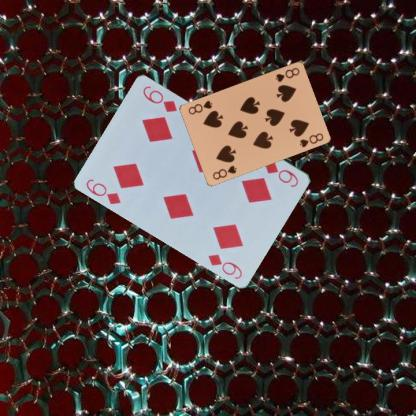6d: (84, 176, 122, 206), (262, 159, 300, 188)
8s: (210, 162, 238, 181), (273, 65, 301, 83)
